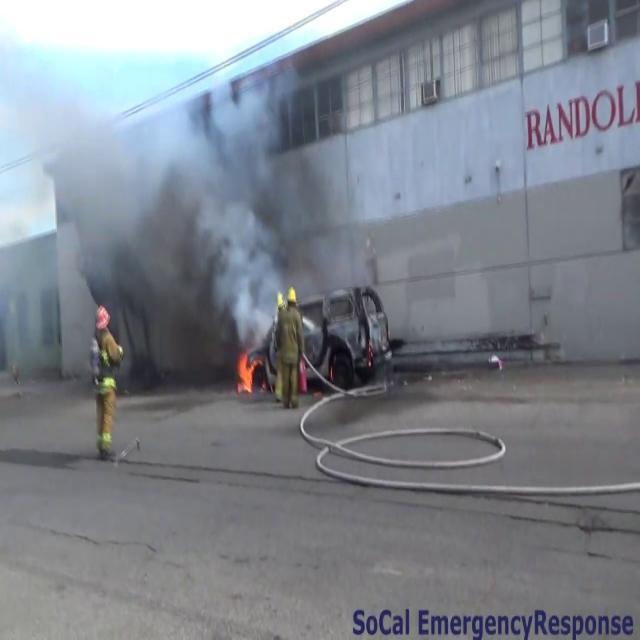Fire: (234, 344, 262, 398)
Smoke: (0, 34, 334, 385)
